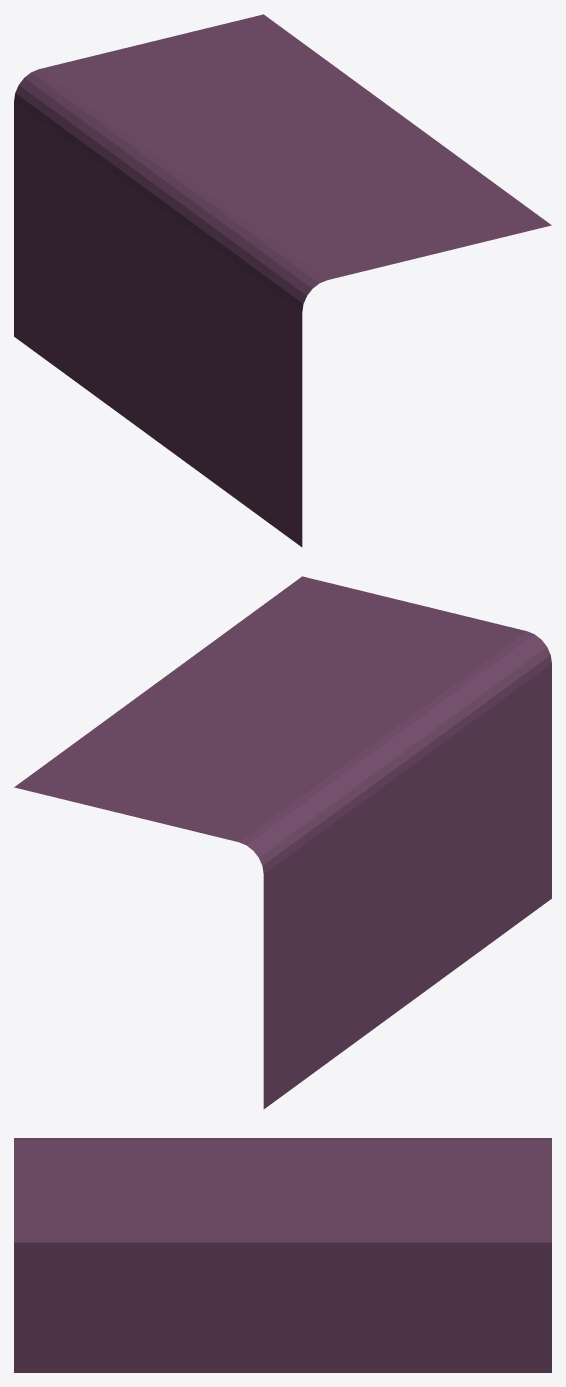
Rendered from Mesh_bog_Large_Single_Flat_02 (1).fbx.
The picture shows the model from 3 angles, top to bottom: view 1: azimuth 30°, elevation 25°; view 2: azimuth 150°, elevation 25°; view 3: azimuth 270°, elevation 25°; orthographic projection. The views are drawn at different scales.
Parts seen in each view (by area): view 1: Mesh_bog_Large_end_02; view 2: Mesh_bog_Large_end_02; view 3: Mesh_bog_Large_end_02.
Boxes of the visible parts, bbox=[...] form: Mesh_bog_Large_end_02: bbox=[14, 14, 551, 547]; Mesh_bog_Large_end_02: bbox=[14, 576, 551, 1109]; Mesh_bog_Large_end_02: bbox=[14, 1138, 551, 1372].
Size of the model in its own units: 4 by 4 by 8.
